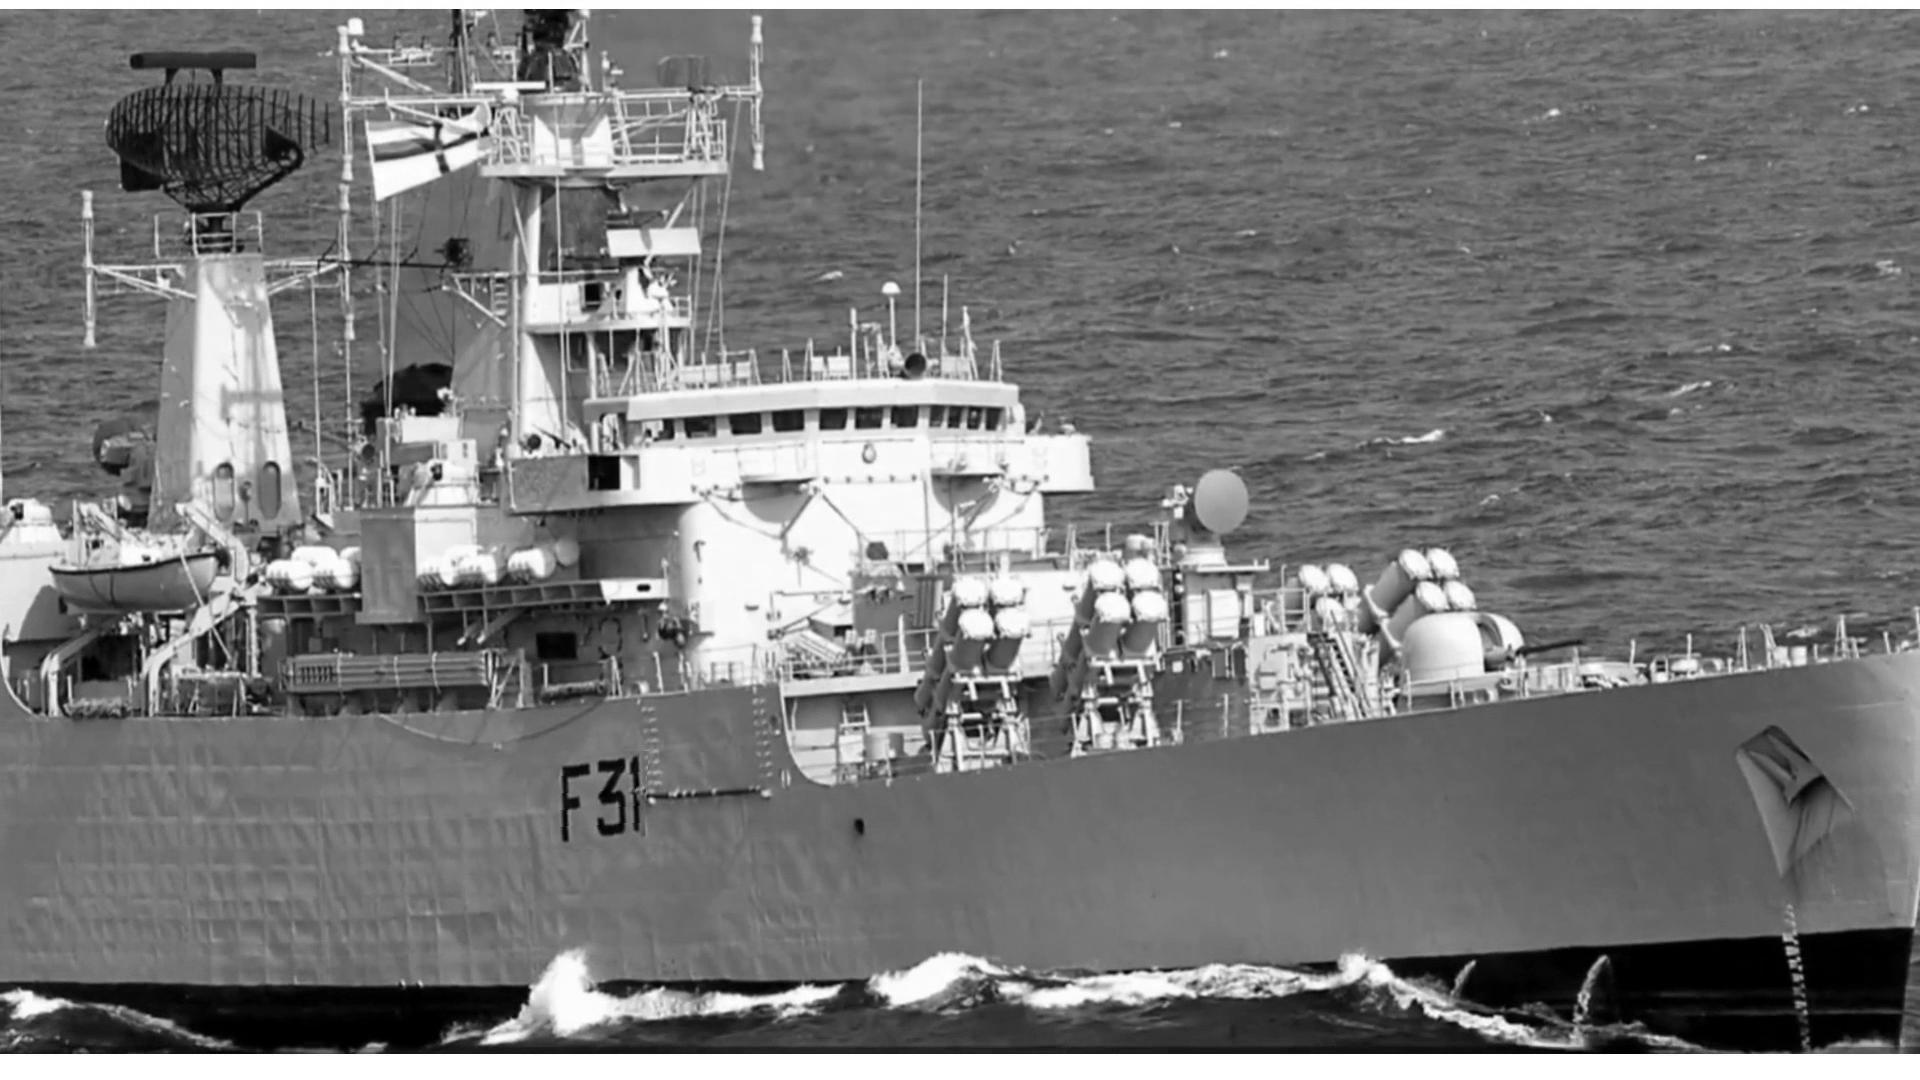OCR: (551, 752, 649, 851)
